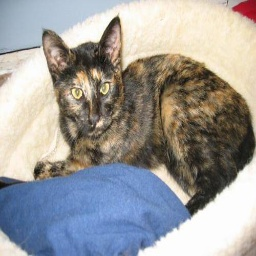cat: (17, 16, 252, 211)
